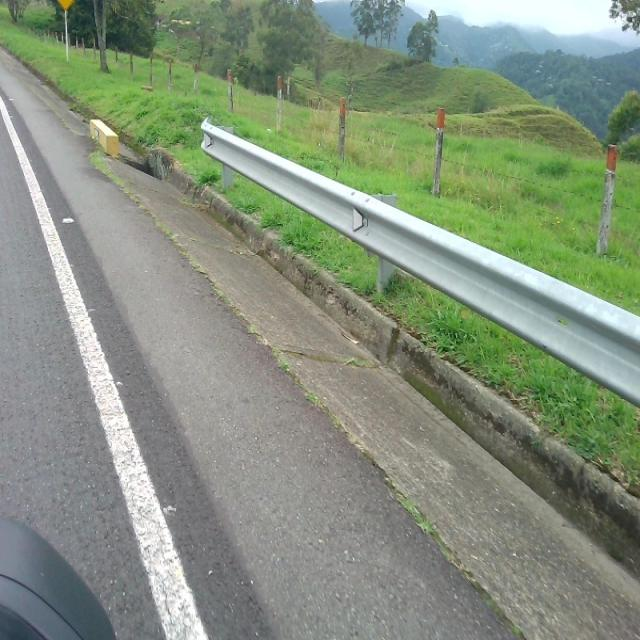DITCH: (14, 25, 638, 637), (1, 44, 638, 638)
